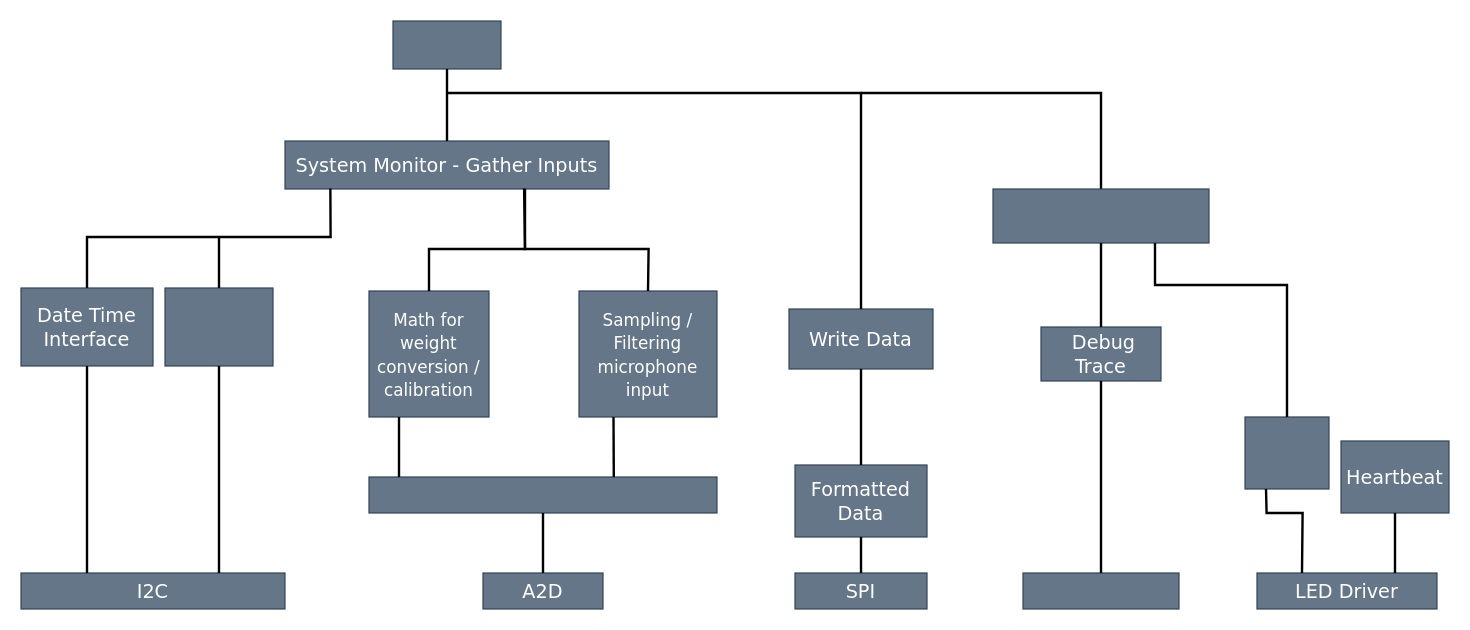
Image size: 1470x630. Some labels were removed from this diagram. Here are the shapes that lost their labels. From the top down, the box of each, then its label:
(392, 20, 501, 69): MAIN
(992, 188, 1209, 243): Debug Module
(164, 287, 273, 366): Motion Sensor Driver
(1244, 416, 1329, 489): Debug LEDs
(368, 476, 717, 513): A2D Reader
(1022, 572, 1179, 609): UART
